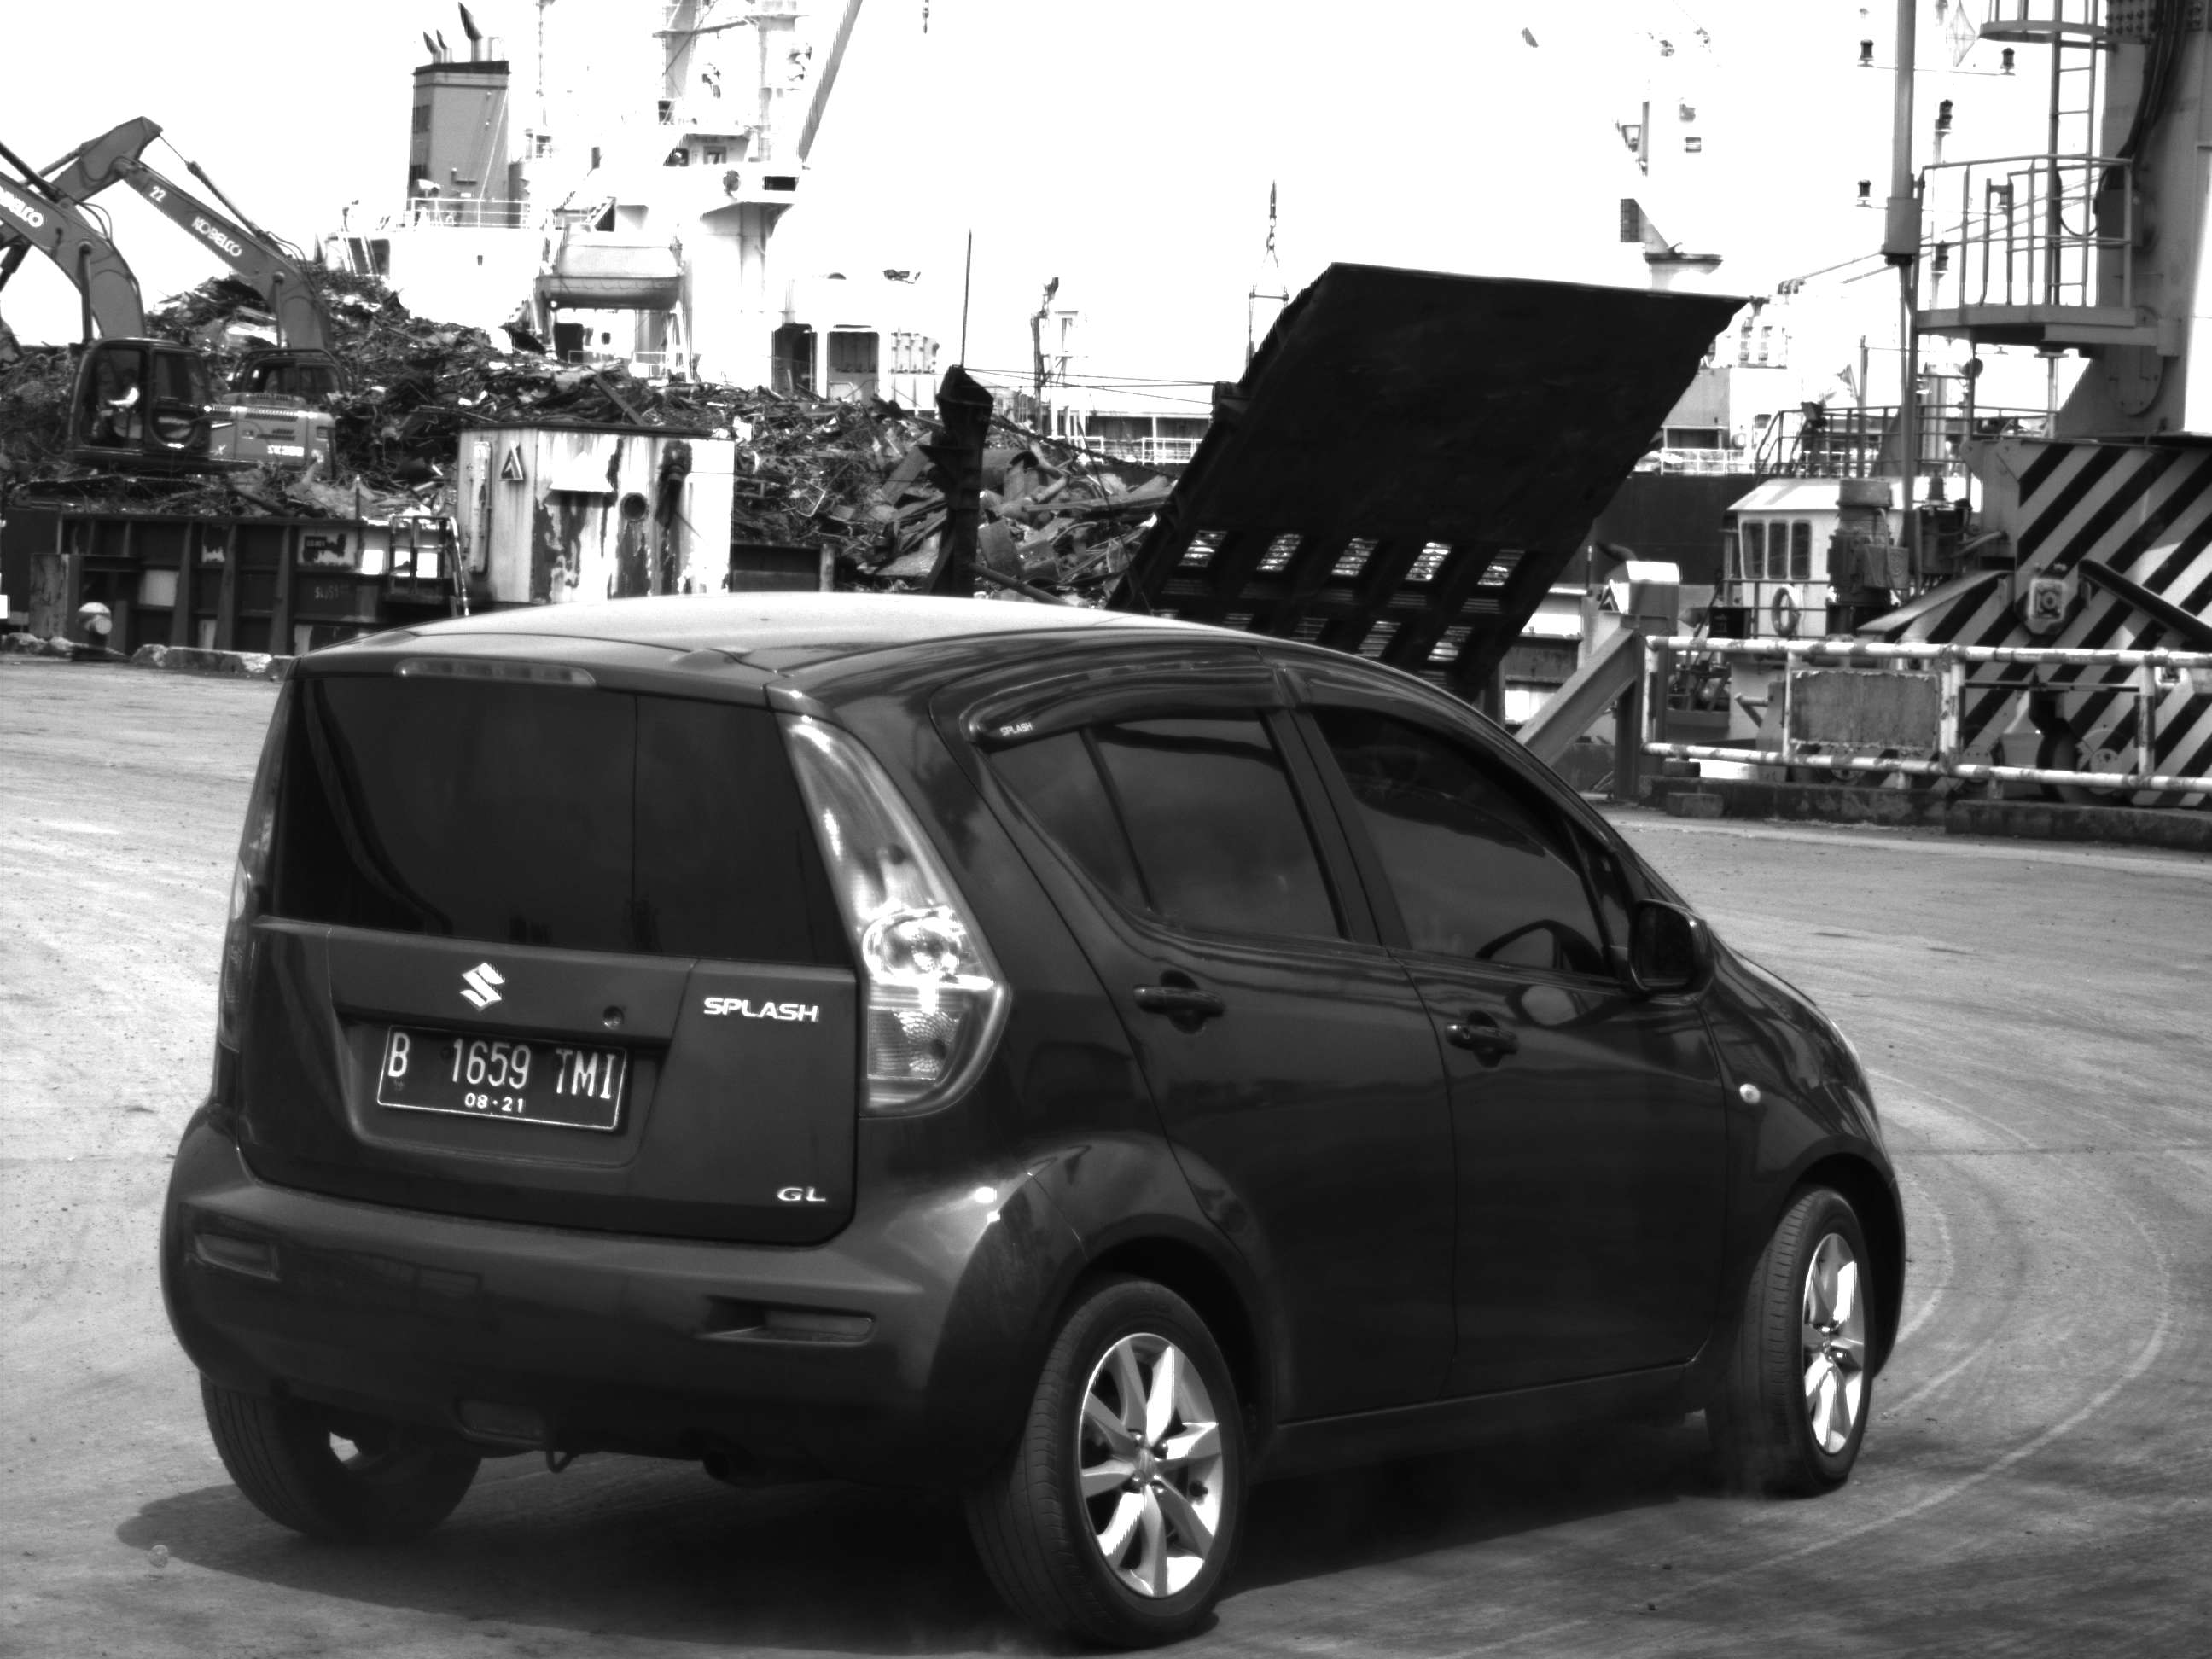day_small_rear: (175, 655, 1286, 1650)
plate: (367, 1019, 633, 1140)
